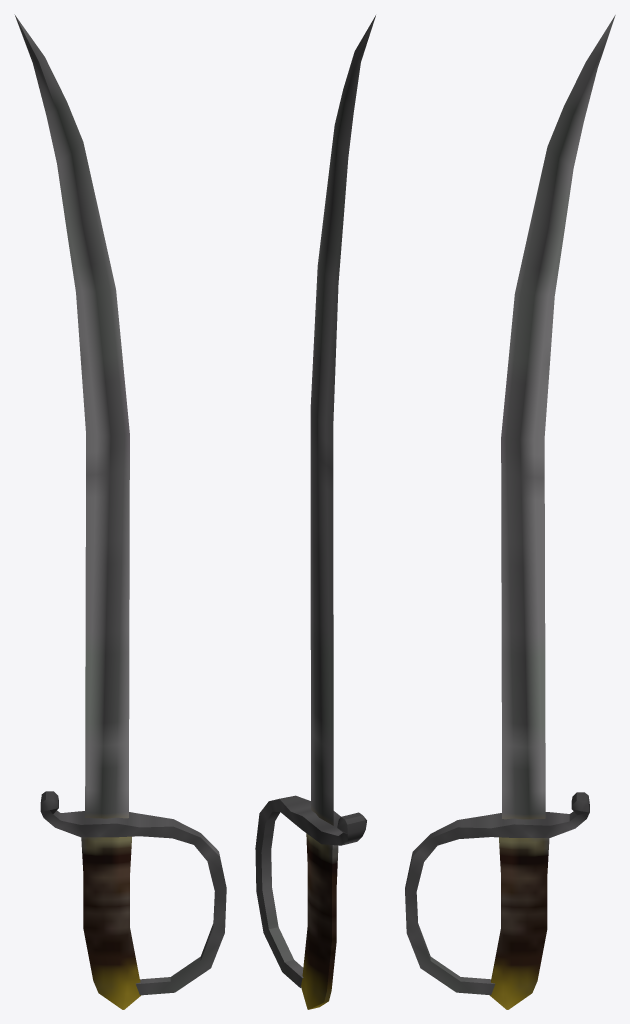
Rendered from sable.dae.
The picture shows the model from 3 angles, left to right: view 1: azimuth 90°, elevation 25°; view 2: azimuth 210°, elevation 25°; view 3: azimuth 270°, elevation 25°; orthographic projection. The views are drawn at different scales.
Visible parts, largest first — view 1: Sable; view 2: Sable; view 3: Sable.
Boxes of the visible parts, x1,y1,x2,y2 form: Sable: [14, 14, 226, 1009]; Sable: [255, 15, 375, 1009]; Sable: [405, 15, 615, 1009].
Size of the model in its own units: 0.0577 by 0.3666 by 1.9.
